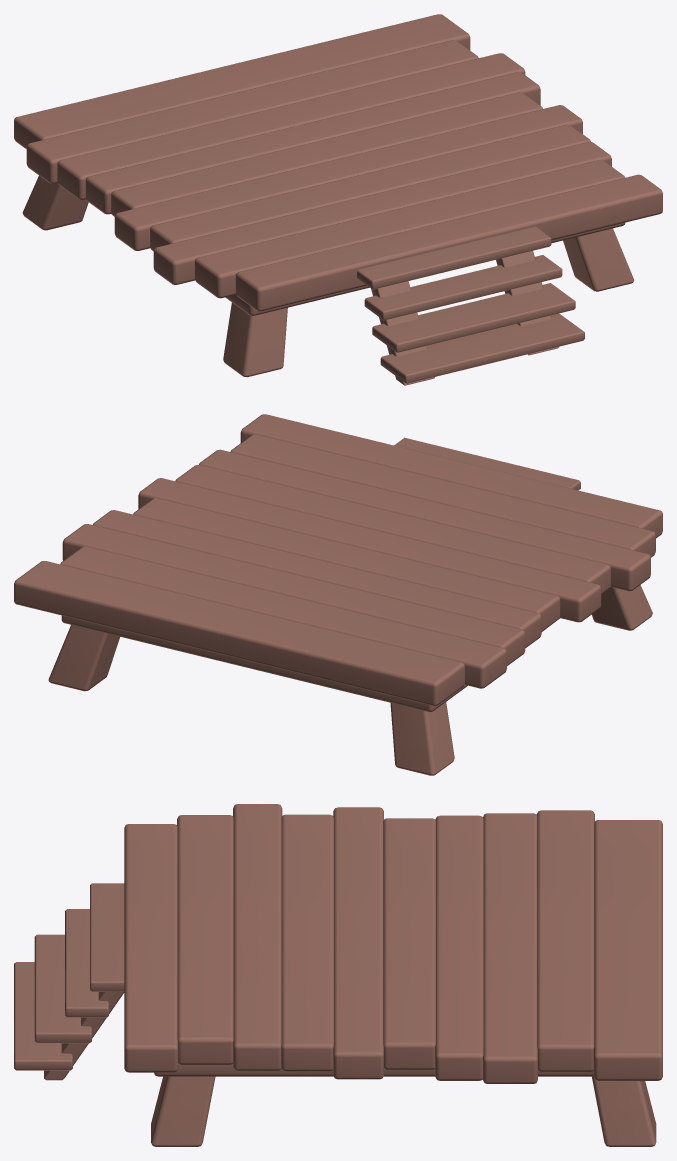
The model's file is Farm_6_Platform_1.glb.
3 renders of one model, top to bottom at view 1: azimuth 30°, elevation 25°; view 2: azimuth 150°, elevation 25°; view 3: azimuth 270°, elevation 25°, orthographic. The views are drawn at different scales.
Parts seen in each view (by area): view 1: Farm_6_Platform_1; view 2: Farm_6_Platform_1; view 3: Farm_6_Platform_1.
Part boxes in pixels (bbox=[...]): Farm_6_Platform_1: bbox=[14, 14, 662, 385]; Farm_6_Platform_1: bbox=[14, 414, 662, 775]; Farm_6_Platform_1: bbox=[14, 804, 662, 1146].
Size of the model in its own units: 6.27 by 1.28 by 6.73.
Materials: 1 (1 with a texture image).
